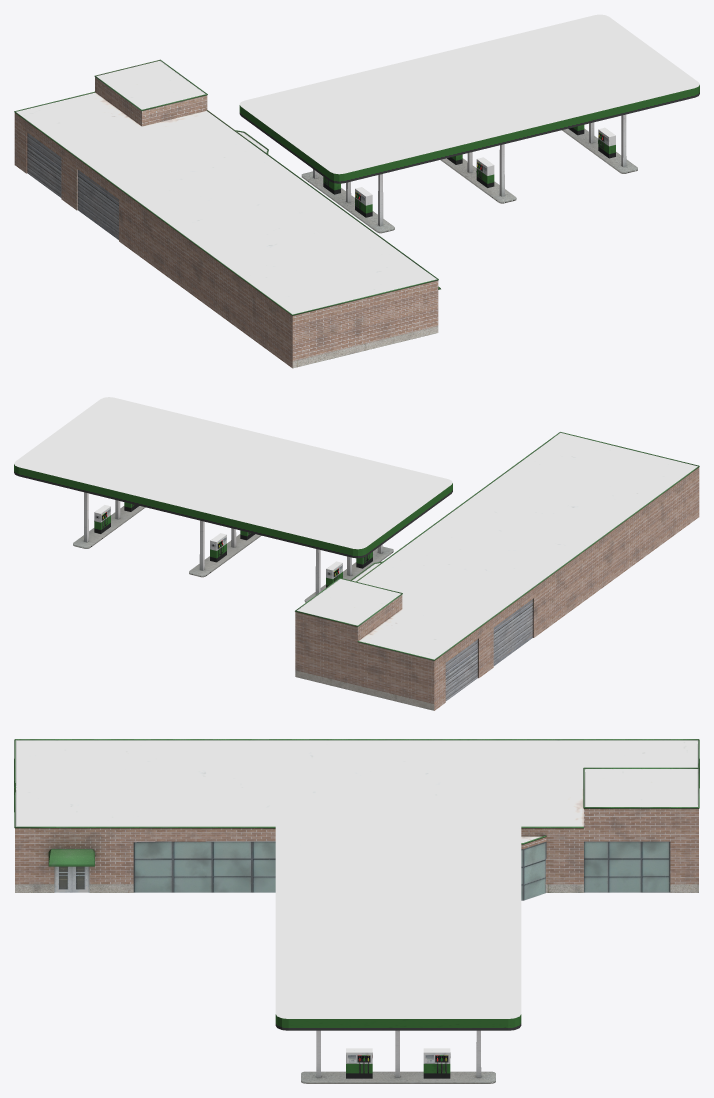
File: gas-station.fbx
3 renders of one model, top to bottom at view 1: azimuth 30°, elevation 25°; view 2: azimuth 150°, elevation 25°; view 3: azimuth 270°, elevation 25°, orthographic. The views are drawn at different scales.
Visible parts, largest first — view 1: gas.store.baked.002, gas.station.baked.002, gas.station.cubes.002; view 2: gas.store.baked.002, gas.station.baked.002, gas.station.cubes.002; view 3: gas.store.baked.002, gas.station.baked.002, gas.station.cubes.002.
Part boxes in pixels (x1,y1,x2,y2): gas.store.baked.002: (14, 59, 440, 368); gas.station.baked.002: (239, 14, 699, 233); gas.station.cubes.002: (323, 125, 615, 217); gas.store.baked.002: (295, 432, 699, 710); gas.station.baked.002: (14, 397, 452, 602); gas.station.cubes.002: (94, 502, 372, 587); gas.store.baked.002: (14, 739, 699, 900); gas.station.baked.002: (275, 798, 521, 1083); gas.station.cubes.002: (346, 1048, 450, 1078).
Size of the model in its own units: 4624 by 673 by 4310.
